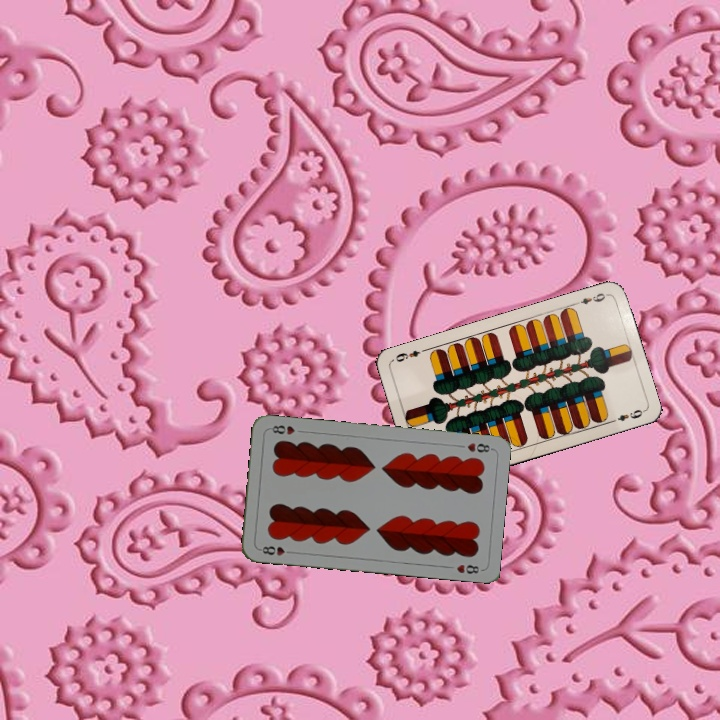E9: (570, 289, 610, 308)
H8: (255, 542, 296, 558), (463, 439, 495, 455)
